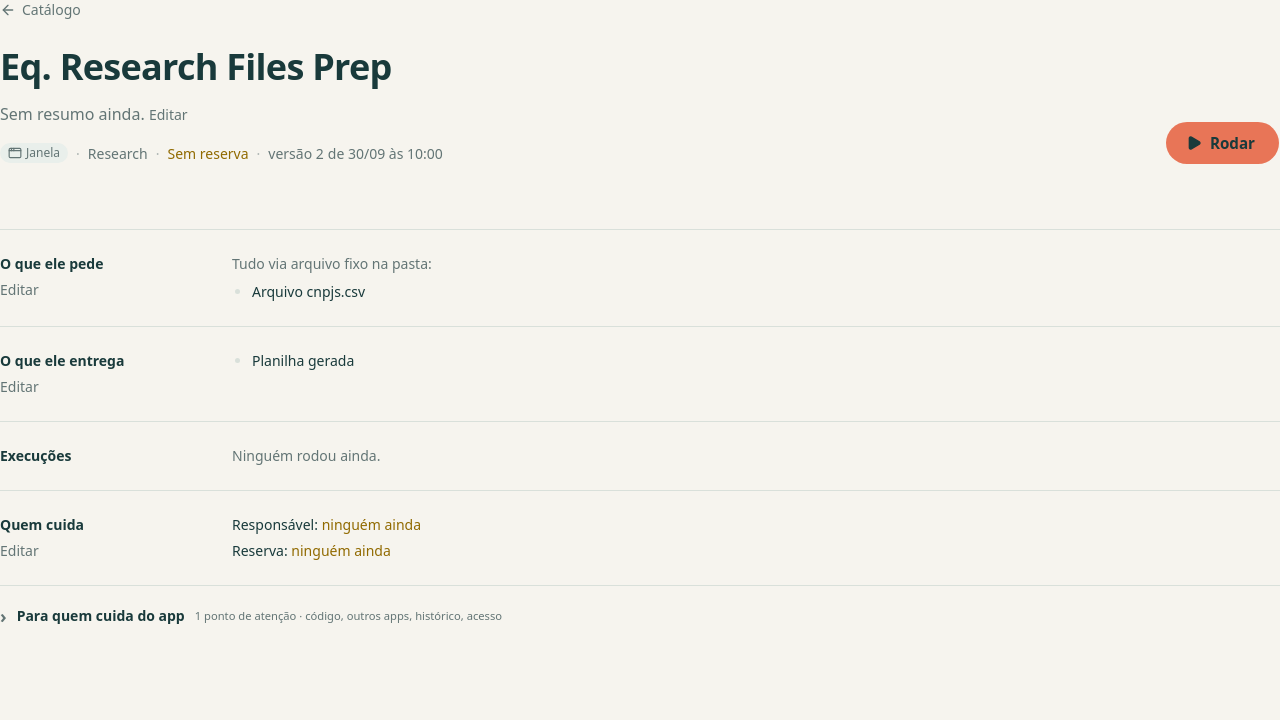
Rodar without a remembered folder asks, and then shows 'Salva em'
Click the button "Rodar": click(1222, 143) [1165, 121, 1279, 165]
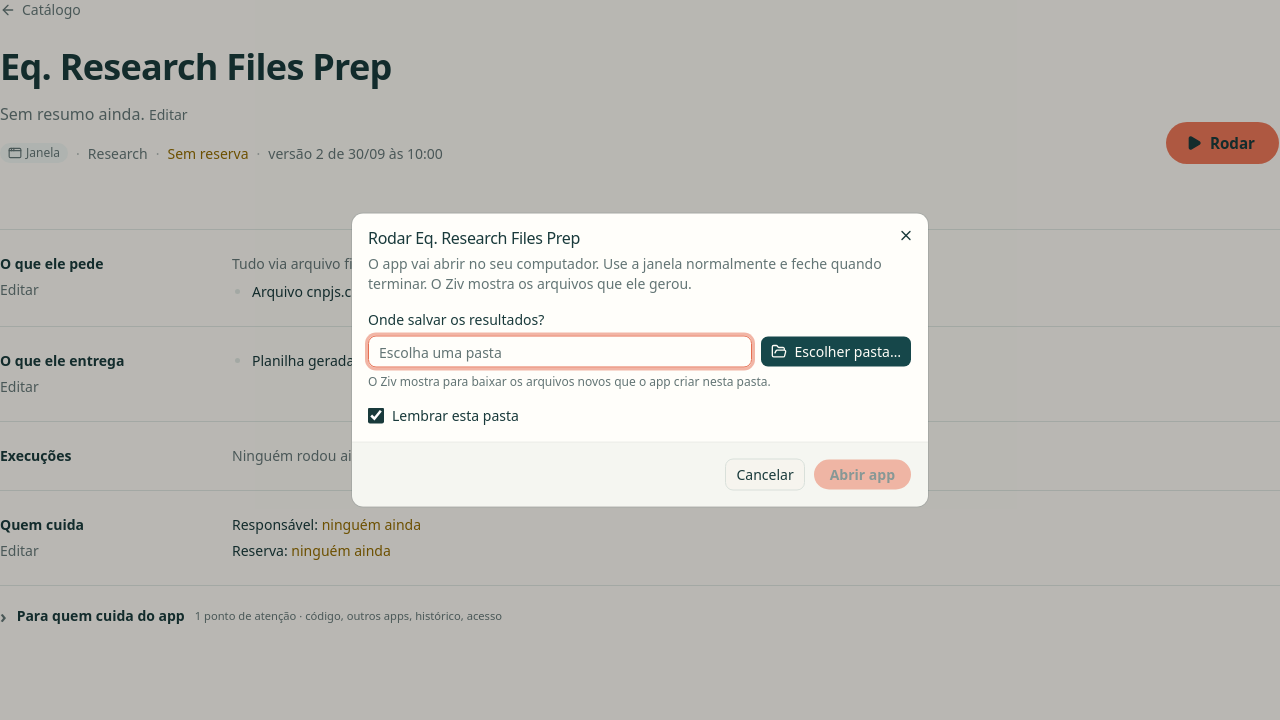
Expected: the text "Salva em" is not shown
In the field labelled "Onde salvar os resultados?": (560, 352) [368, 336, 752, 368], type "E:\\Resultados"
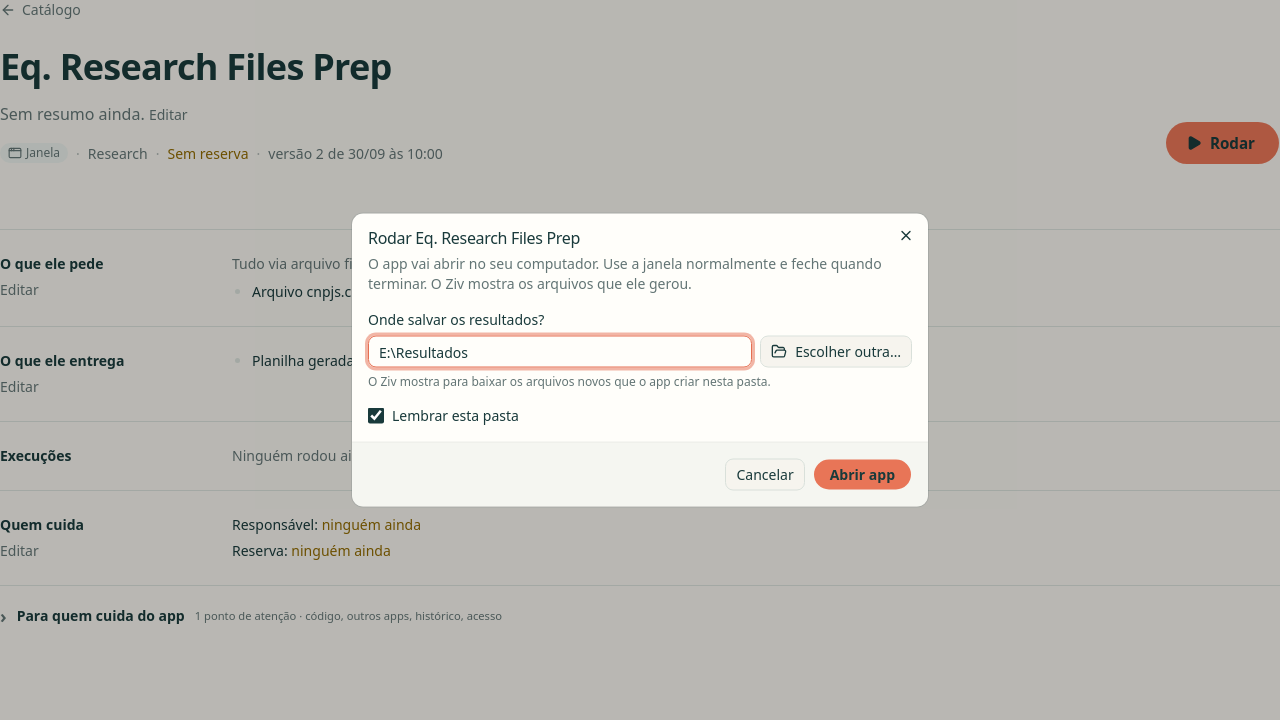
Click the button "Abrir app": click(862, 474) [813, 458, 912, 490]
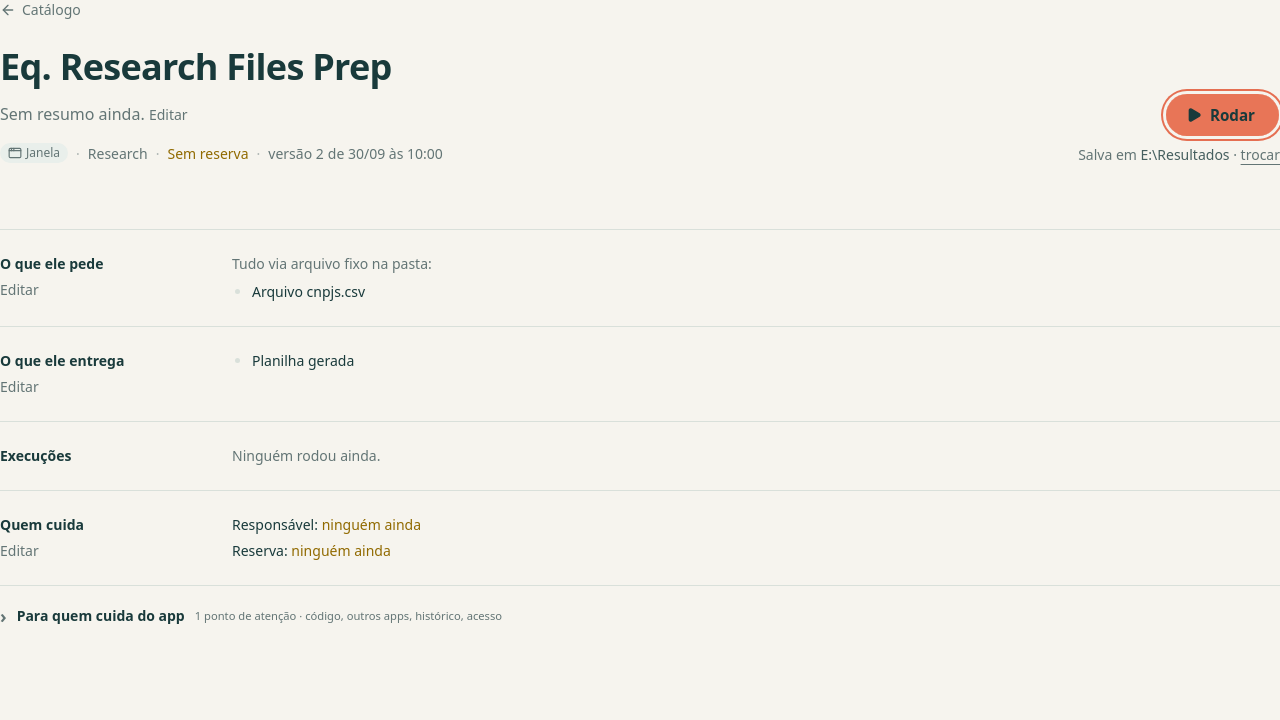
Result: the text "Salva em E:\\Resultados · trocar" is shown at [1078, 145, 1279, 165]
